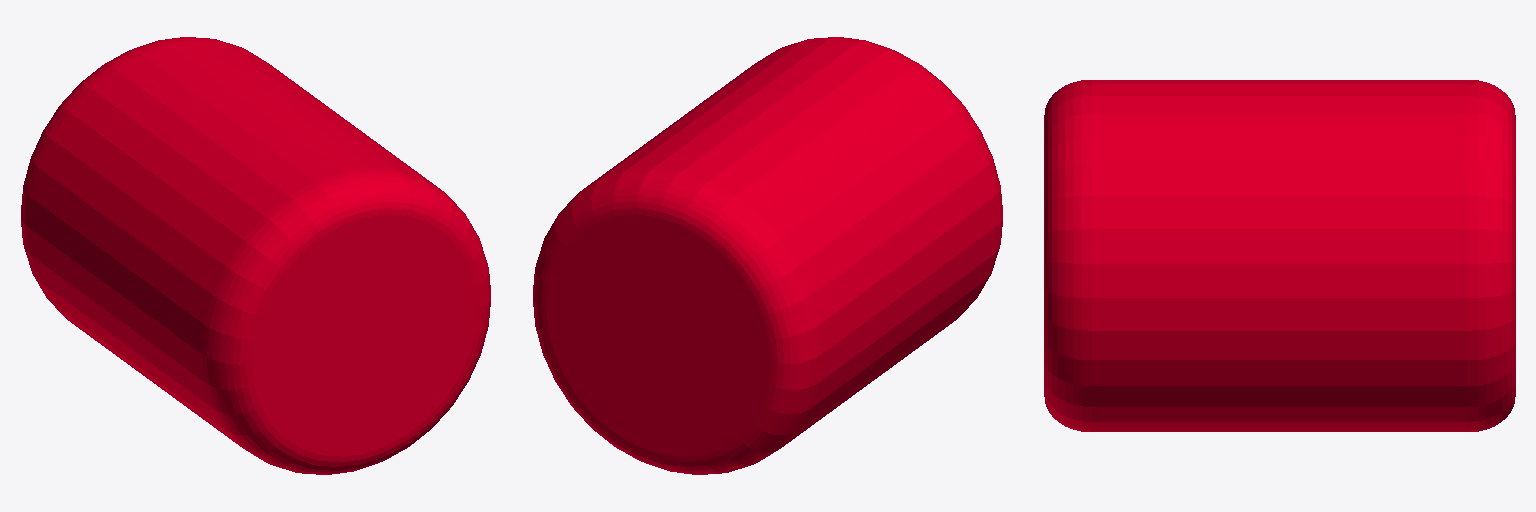
The robot description file, URDF, robot "cylinder.urdf":
<?xml version="1.0" ?>
<robot name="cylinder.urdf">

  <link name="cylinder">
    <contact>
    	<friction_anchor/>
    	   <lateral_friction value="1.0"/>
    </contact>
    <inertial>
      <origin rpy="0 0 0" xyz="0 0 0"/>
       <mass value=".1"/>
       <inertia ixx="1" ixy="0" ixz="0" iyy="1" iyz="0" izz="1"/>
    </inertial>
    <visual>
      <origin rpy="0 0 0" xyz="0 0 0"/>
      <geometry>
				<mesh filename="cylinder_rounded.obj" scale="1.0 1.0 1.0"/>
      </geometry>
       <material name="red">
        <color rgba="0.9 0 0.2 1.0"/>
      </material>
    </visual>
    <collision>
      <origin rpy="0 0 0" xyz="0 0 0"/>
      <geometry>
				<mesh filename="cylinder_rounded.obj" scale="1.0 1.0 1.0"/>
      </geometry>
    </collision>
  </link>


</robot>

--- Facts derived from the render (not from the file) ---
The picture shows the robot from 3 angles, left to right: view 1: azimuth 30°, elevation 25°; view 2: azimuth 150°, elevation 25°; view 3: azimuth 270°, elevation 25°; orthographic projection.
Model cylinder.urdf with 1 links and 0 joints (none), rooted at cylinder, posed every joint at zero.
Links seen in each view (by area): view 1: cylinder; view 2: cylinder; view 3: cylinder.
Link boxes in pixels (x1,y1,x2,y2): cylinder: (21,37,490,474); cylinder: (533,37,1002,474); cylinder: (1044,80,1515,431).
Bounding box of the posed robot: 0.075 × 0.1 × 0.075 m (x, y, z).
1 mesh visuals loaded from 1 distinct referenced files (1 OBJ).